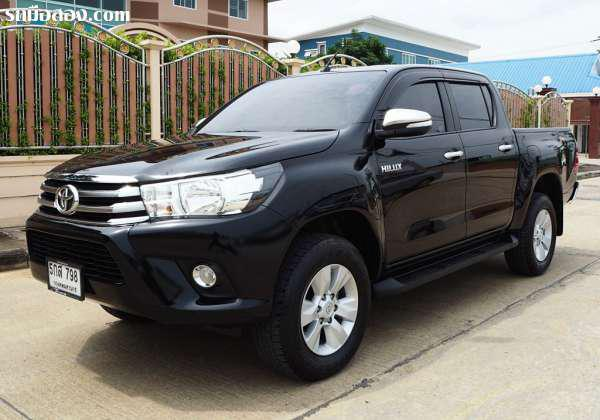pickup: (23, 61, 582, 384)
